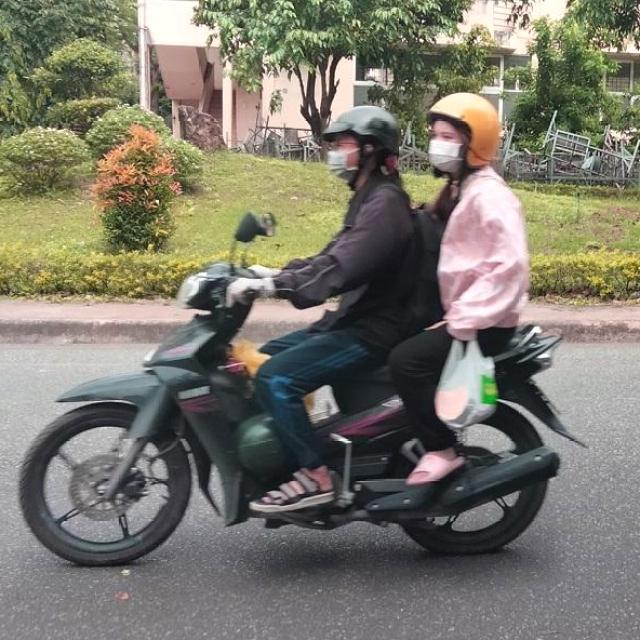Helmet: (316, 98, 404, 196), (426, 89, 506, 181)
